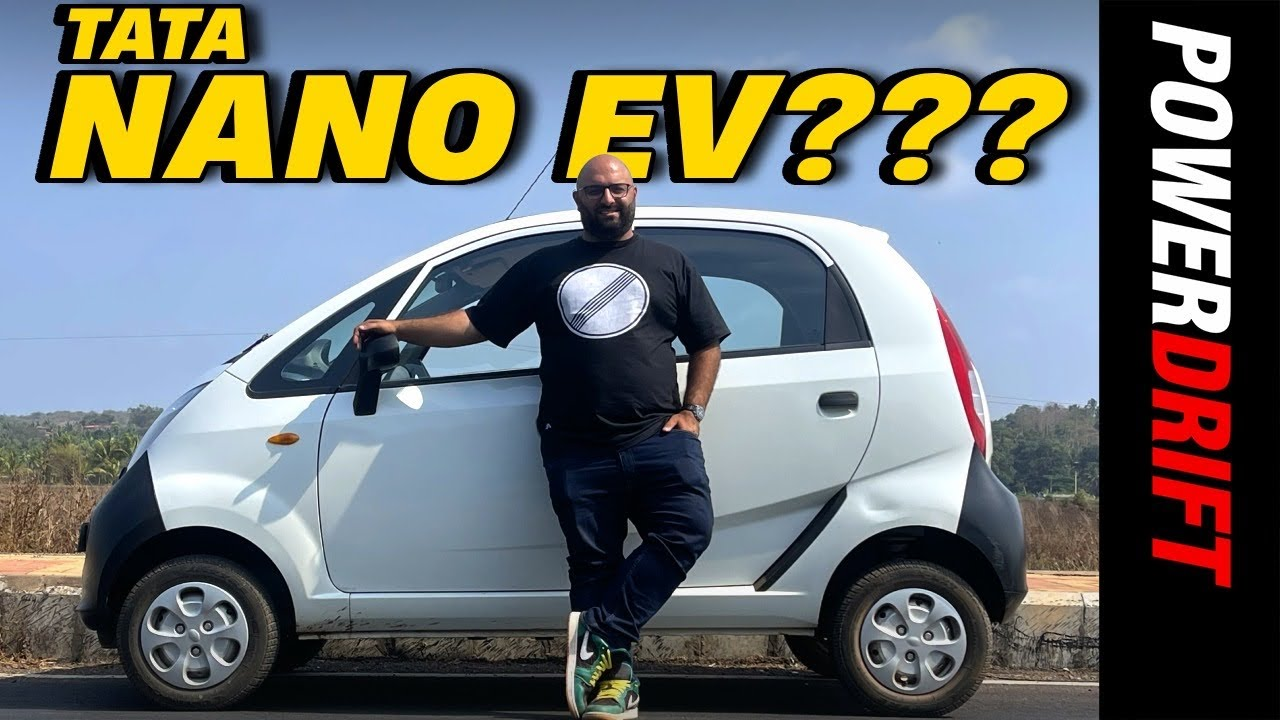Nano: (69, 207, 1036, 720)
